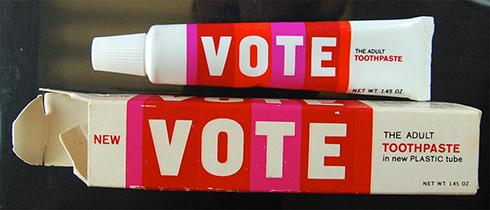toothpaste: (76, 12, 439, 105)
